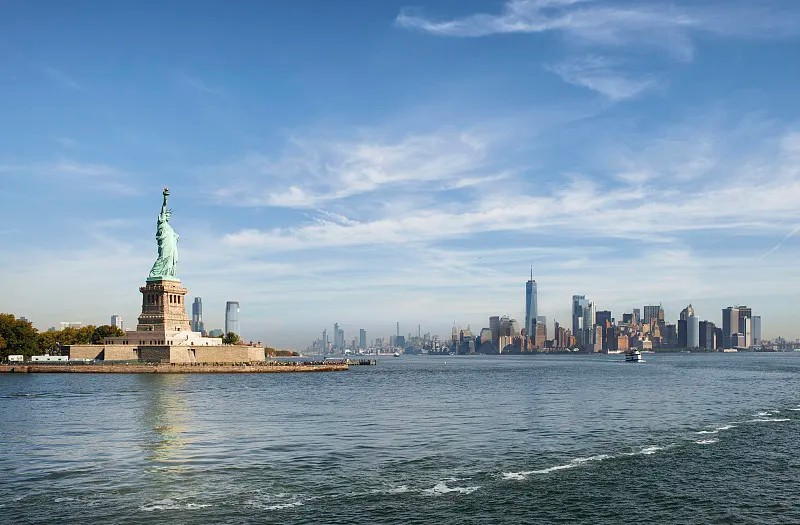SL: (137, 186, 192, 333)
